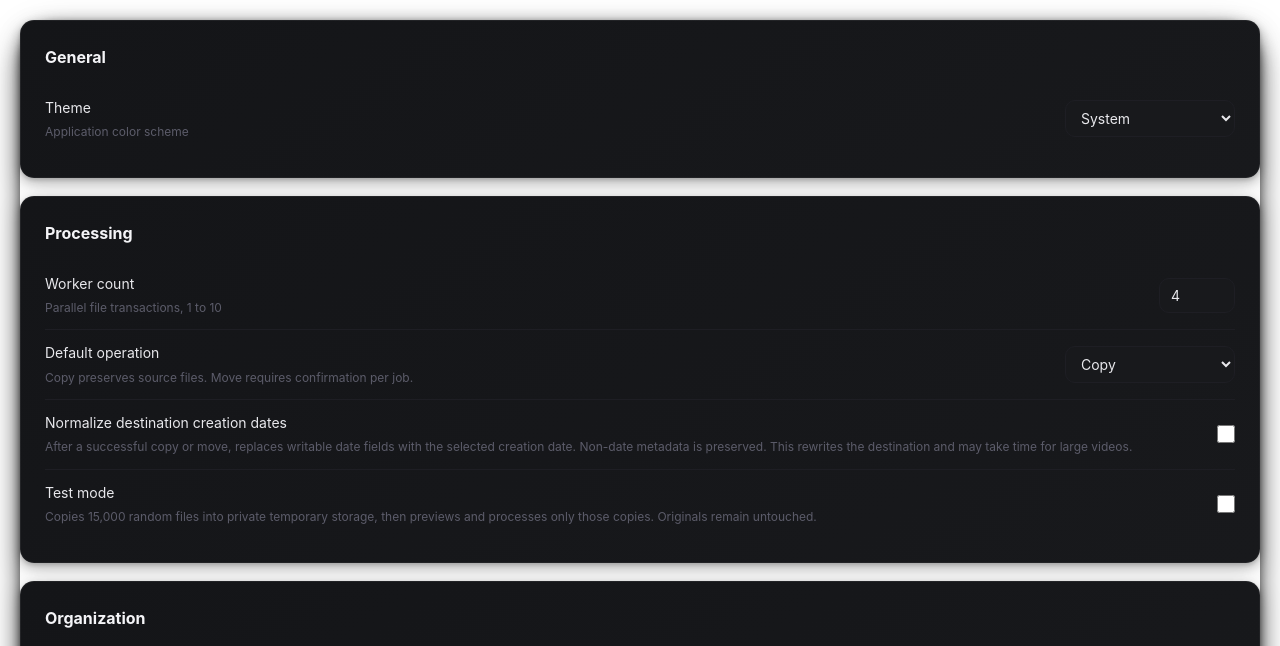
it: SettingsView › surfaces persistence failure instead of displaying a false saved state
This screenshot has width=1280, height=646.
Select "Dark" in the dropdown labelled "Theme" at {"x": 1150, "y": 119}, box [1065,100,1235,137]
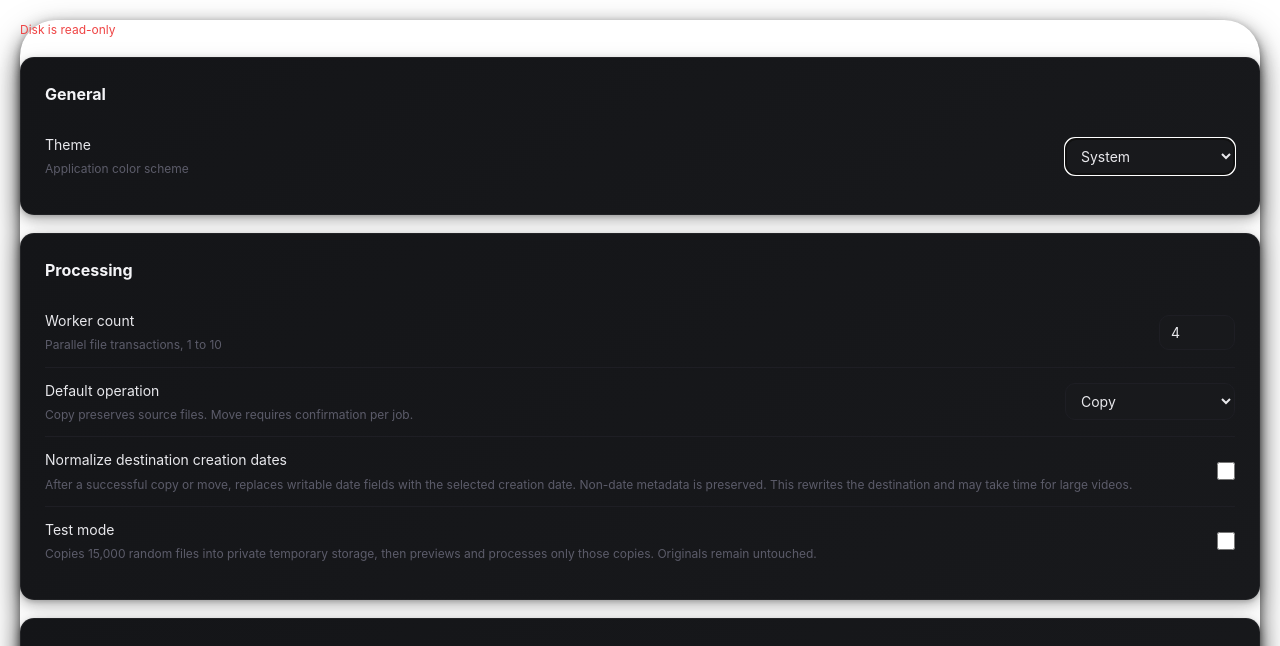
Expected: the text "Disk is read-only" is shown, [20,22,116,37]
